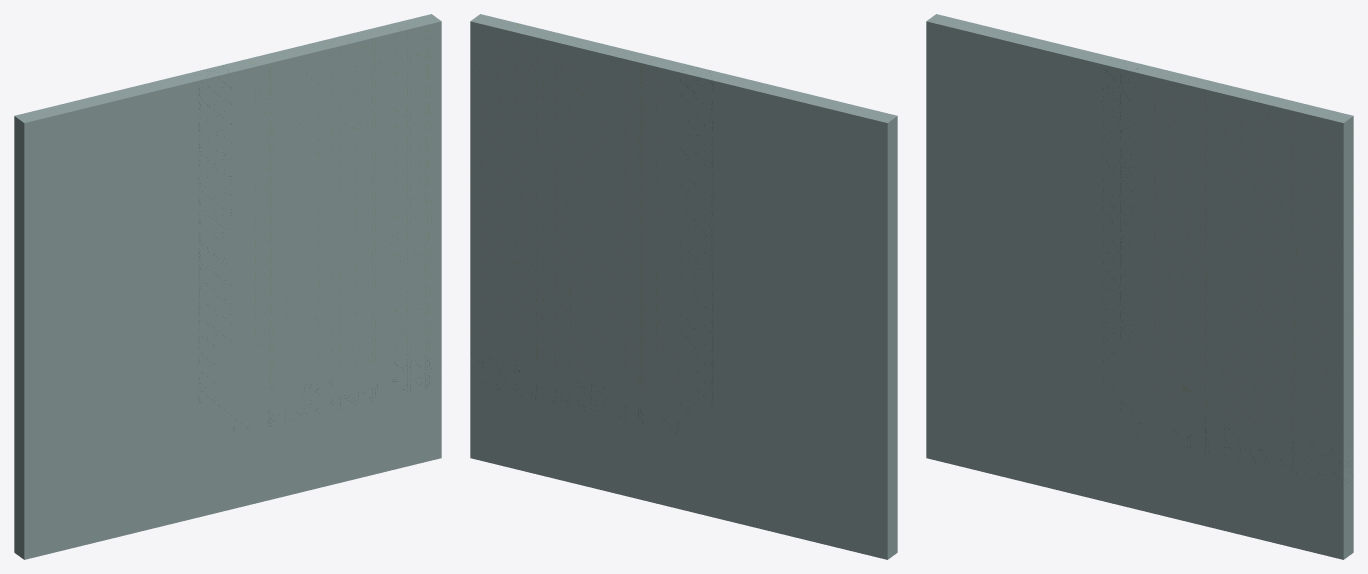
3 views of the same model, side by side, from view 1: azimuth 30°, elevation 25°; view 2: azimuth 150°, elevation 25°; view 3: azimuth 330°, elevation 25° (orthographic).
Bounding box in the file's own units: 2.4 × 2.4 × 0.1.
